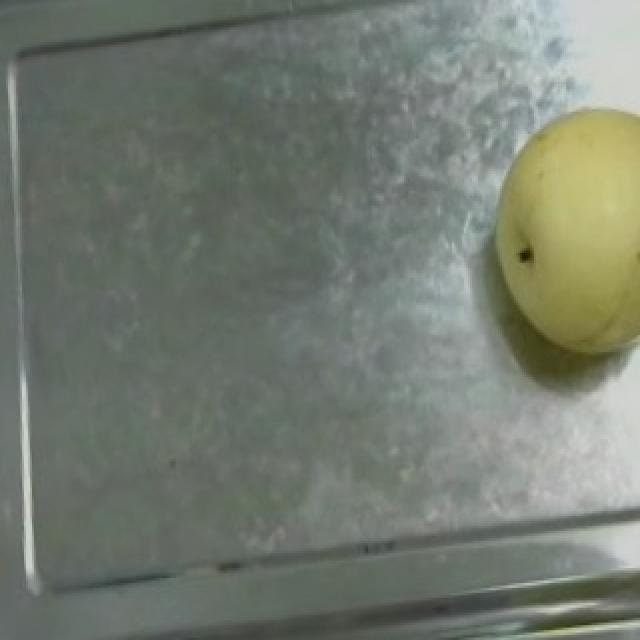Fruit: (472, 82, 640, 372)
